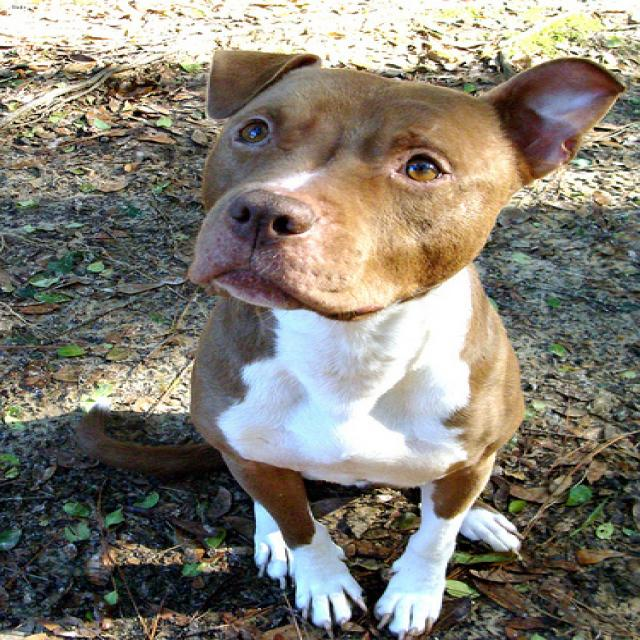dog-american_pit_bull_terrier: (61, 37, 637, 637)
